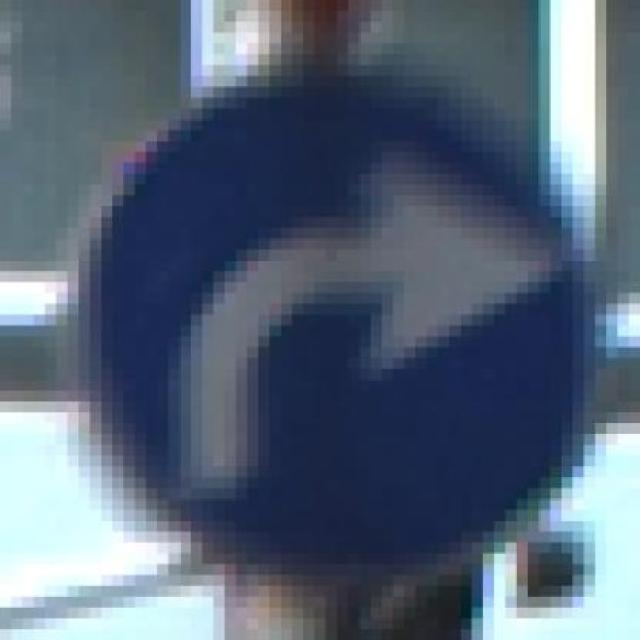Turn right ahead: (56, 65, 607, 608)
